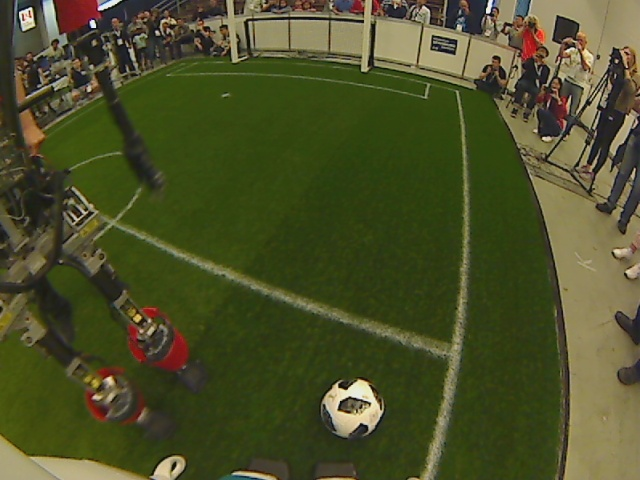ball: (317, 376, 386, 442)
